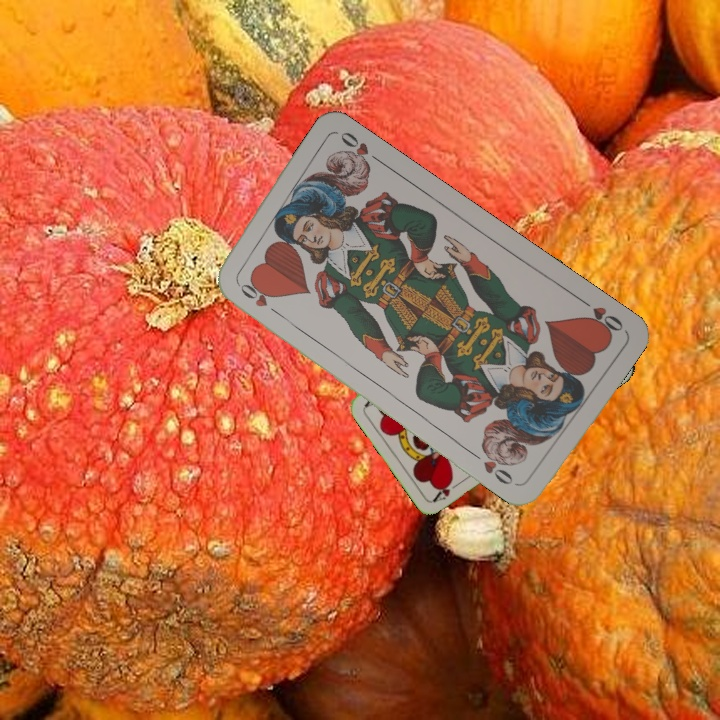HA: (430, 475, 466, 504)
HO: (575, 294, 626, 338), (233, 278, 284, 319)
